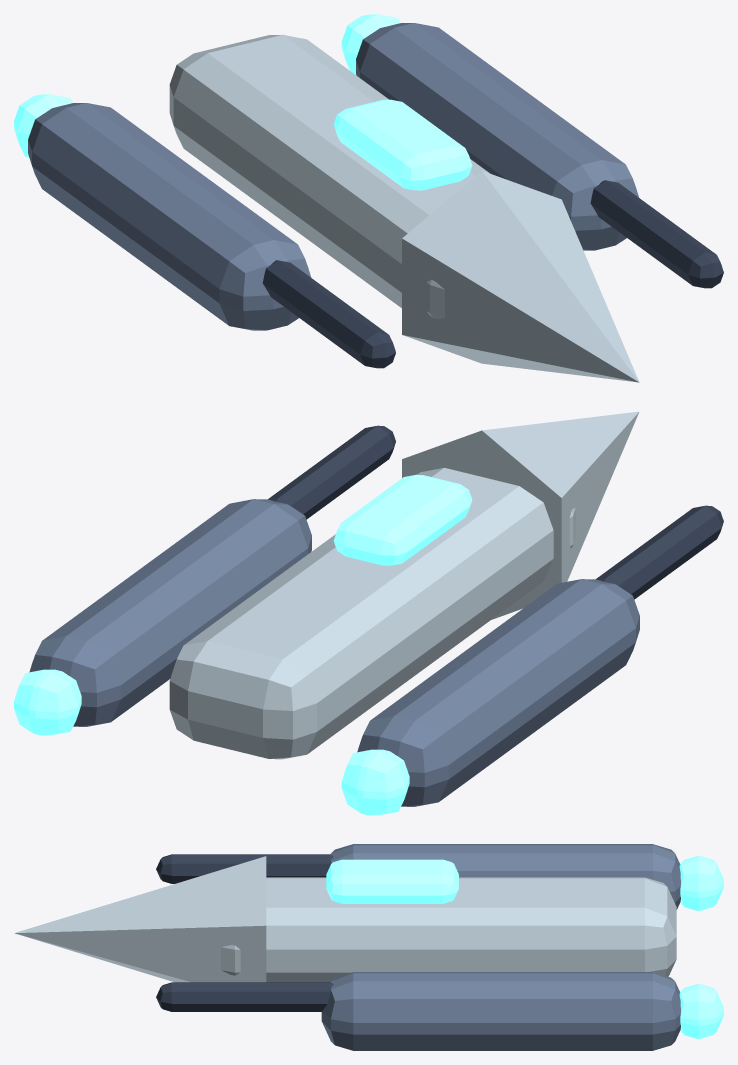
The model's file is lancer.glb.
3 views of the same model, one above another, from view 1: azimuth 30°, elevation 25°; view 2: azimuth 150°, elevation 25°; view 3: azimuth 270°, elevation 25° (orthographic). The views are drawn at different scales.
Visible parts, largest first — view 1: Cube, Cone, Cube.001, Cube.004, Cube.007, Cube.006, Cube.003, Cube.002, Cube.005; view 2: Cube, Cube.001, Cube.004, Cone, Cube.007, Cube.003, Cube.006, Cube.002, Cube.005; view 3: Cube, Cube.004, Cone, Cube.001, Cube.007, Cube.006, Cube.003, Cube.002, Cube.005.
Part boxes in pixels (x1=…): Cube: x1=169, y1=34, x2=489, y2=318; Cone: x1=402, y1=171, x2=639, y2=382; Cube.001: x1=28, y1=103, x2=311, y2=330; Cube.004: x1=356, y1=23, x2=638, y2=250; Cube.007: x1=333, y1=99, x2=472, y2=190; Cube.006: x1=590, y1=180, x2=723, y2=288; Cube.003: x1=262, y1=260, x2=395, y2=368; Cube.002: x1=14, y1=94, x2=72, y2=157; Cube.005: x1=341, y1=14, x2=400, y2=75; Cube: x1=169, y1=467, x2=575, y2=759; Cube.001: x1=357, y1=579, x2=639, y2=806; Cube.004: x1=29, y1=499, x2=311, y2=726; Cone: x1=402, y1=411, x2=639, y2=619; Cube.007: x1=333, y1=474, x2=472, y2=565; Cube.003: x1=595, y1=505, x2=723, y2=599; Cube.006: x1=268, y1=425, x2=395, y2=519; Cube.002: x1=341, y1=749, x2=409, y2=815; Cube.005: x1=14, y1=669, x2=81, y2=735; Cube: x1=221, y1=877, x2=676, y2=982; Cube.004: x1=321, y1=972, x2=680, y2=1050; Cone: x1=14, y1=856, x2=266, y2=982; Cube.001: x1=330, y1=844, x2=680, y2=909; Cube.007: x1=326, y1=859, x2=458, y2=903; Cube.006: x1=156, y1=982, x2=333, y2=1011; Cube.003: x1=156, y1=854, x2=333, y2=883; Cube.002: x1=679, y1=855, x2=723, y2=911; Cube.005: x1=679, y1=983, x2=723, y2=1039.
Size of the model in its own units: 1.22 by 0.54 by 2.25.
